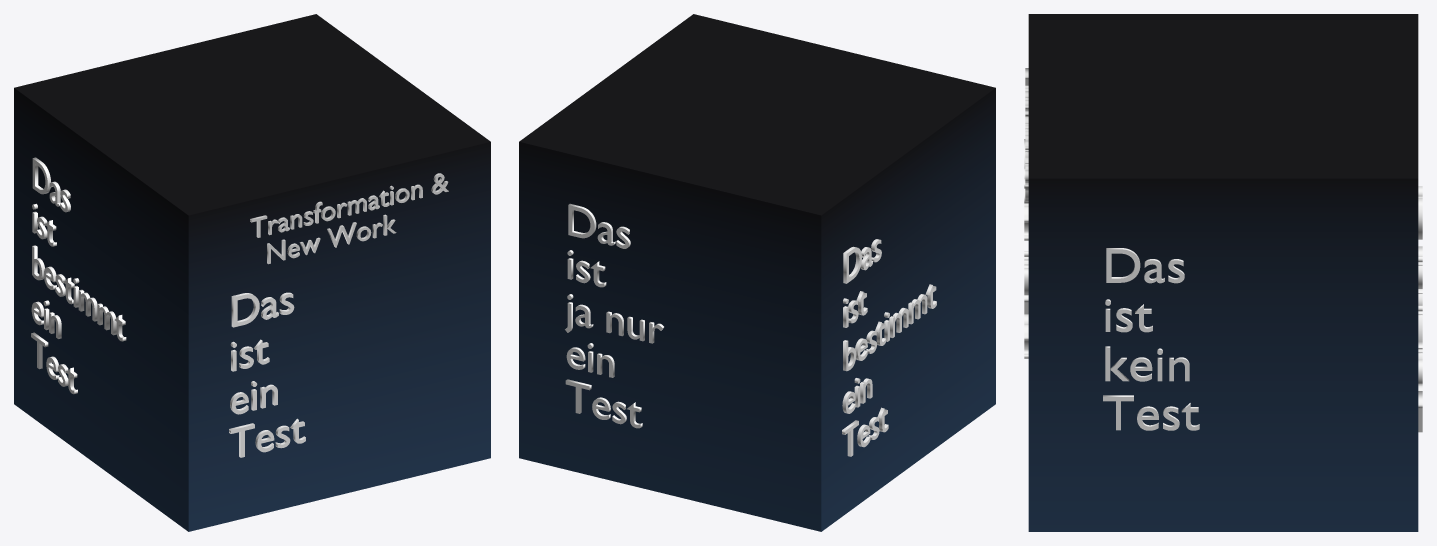
Rendered from TransformationNewWork.glb.
3 views of the same model, side by side, from view 1: azimuth 30°, elevation 25°; view 2: azimuth 150°, elevation 25°; view 3: azimuth 270°, elevation 25° (orthographic). The views are drawn at different scales.
Visible parts, largest first — view 1: Cube.001, T2 Linke Seite.001, T1 Frontseite, Text; view 2: Cube.001, T2 Linke Seite.001, T2 Linke Seite.002; view 3: Cube.001, T2 Rechte Seite, T2 Linke Seite.002, T1 Frontseite, Text.
Part boxes in pixels (bbox=[...]): Cube.001: bbox=[14, 14, 490, 531]; T2 Linke Seite.001: bbox=[31, 157, 126, 394]; T1 Frontseite: bbox=[229, 292, 305, 457]; Text: bbox=[250, 173, 448, 264]; Cube.001: bbox=[519, 14, 995, 531]; T2 Linke Seite.001: bbox=[842, 239, 936, 456]; T2 Linke Seite.002: bbox=[565, 203, 663, 428]; Cube.001: bbox=[1028, 14, 1418, 531]; T2 Rechte Seite: bbox=[1103, 248, 1199, 430]; T2 Linke Seite.002: bbox=[1418, 186, 1422, 432]; T1 Frontseite: bbox=[1024, 139, 1028, 358]; Text: bbox=[1025, 68, 1028, 200].
Bounding box in the file's own units: 2.04 × 2 × 2.04.
5 materials, 1 textured.
